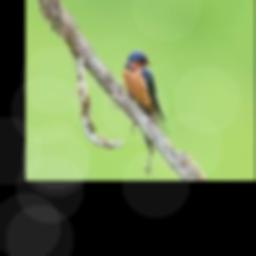Swallow: (122, 51, 169, 138)
